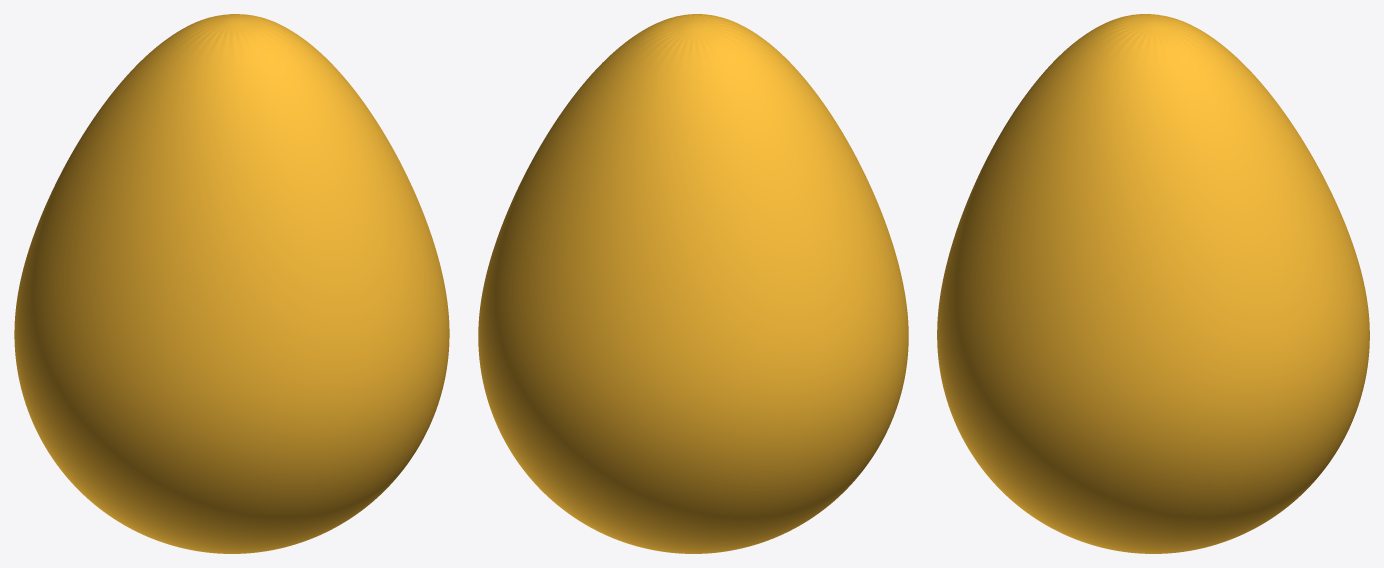
File: Blue egg.fbx
The picture shows the model from 3 angles, left to right: view 1: azimuth 30°, elevation 25°; view 2: azimuth 150°, elevation 25°; view 3: azimuth 270°, elevation 25°; orthographic projection.
Visible parts, largest first — view 1: Sphere; view 2: Sphere; view 3: Sphere.
Part boxes in pixels (box(x1,y1,x2,y2)): Sphere: box(14, 14, 449, 553); Sphere: box(478, 14, 908, 553); Sphere: box(937, 14, 1369, 553).
Size of the model in its own units: 49 by 63.89 by 49.
